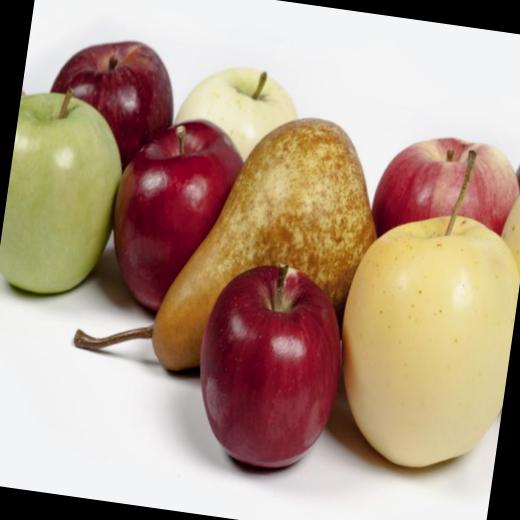Apple: (322, 130, 520, 483), (184, 252, 354, 479), (100, 106, 250, 318), (0, 77, 132, 301), (367, 120, 520, 255), (40, 30, 182, 172), (170, 56, 303, 170), (494, 174, 520, 280), (512, 134, 520, 192)
